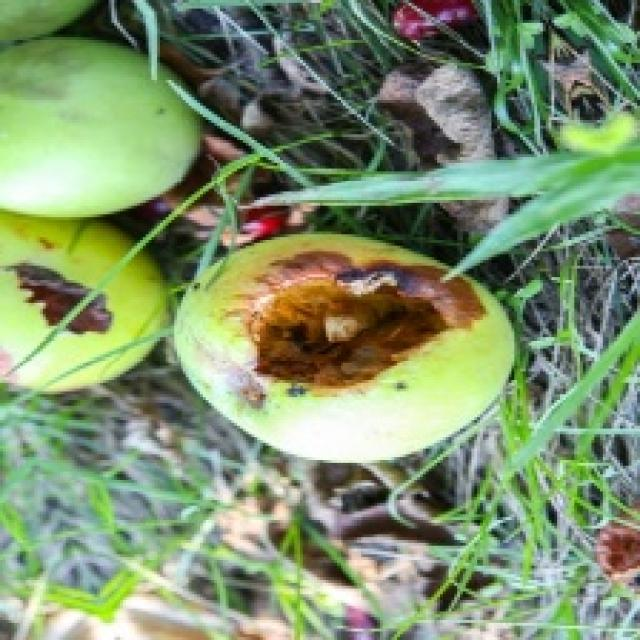rotten_apple: (179, 237, 515, 452), (0, 216, 165, 385)
